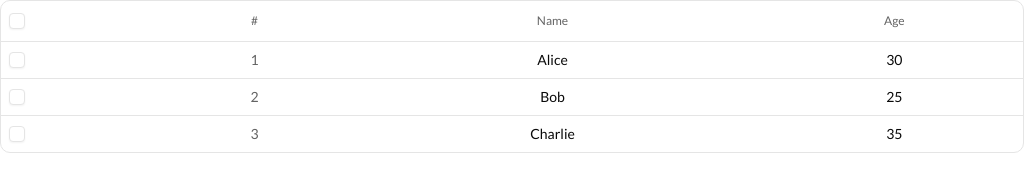
DataTableRoot › selects all rows when header checkbox is clicked
Click the checkbox named "Select all": (17,21) [9, 13, 25, 29]
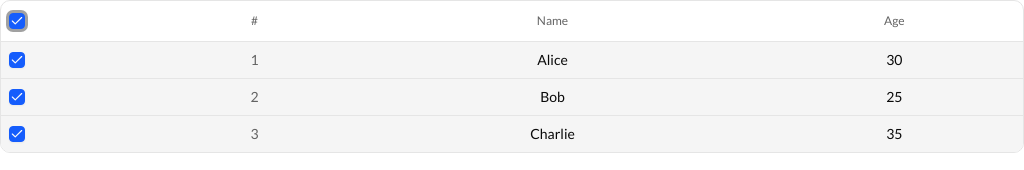
Expected: the checkbox named "Select row" in the row of "Alice" is checked, [9, 52, 25, 68]
Expected: the checkbox named "Select row" in the row of "Bob" is checked, [9, 88, 25, 104]
Expected: the checkbox named "Select row" in the row of "Charlie" is checked, [9, 126, 25, 142]
